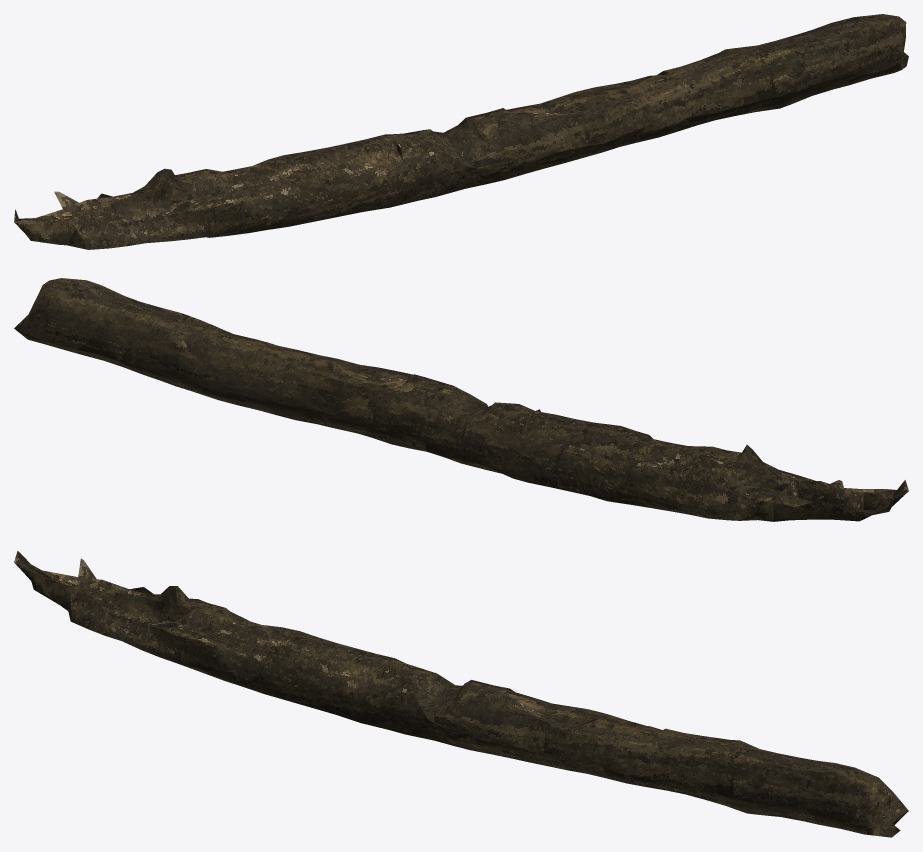
The model's file is dead_tree_trunk.glb.
3 renders of one model, top to bottom at view 1: azimuth 30°, elevation 25°; view 2: azimuth 150°, elevation 25°; view 3: azimuth 330°, elevation 25°, orthographic.
Visible parts, largest first — view 1: mesh; view 2: mesh; view 3: mesh.
Part boxes in pixels (bbox=[...]): mesh: bbox=[14, 14, 908, 249]; mesh: bbox=[14, 278, 908, 521]; mesh: bbox=[14, 551, 908, 837].
Bounding box in the file's own units: 3.09 × 0.2904 × 0.272.
1 material, 1 textured.
